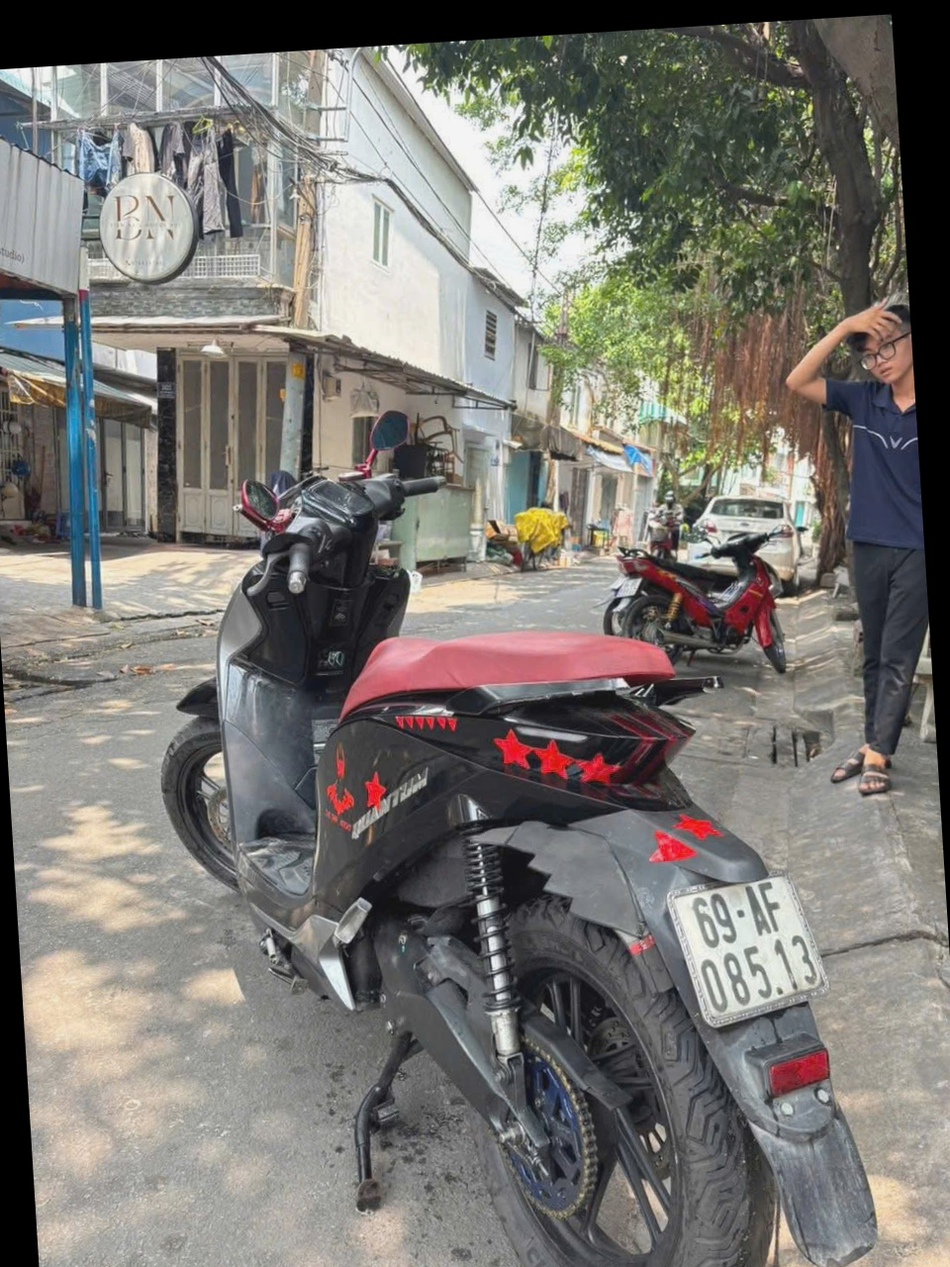Bien-so: (670, 893, 848, 1045)
